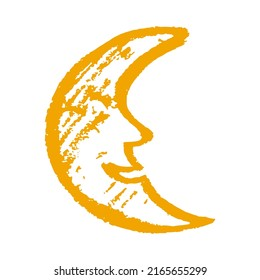moon: (44, 25, 216, 234)
